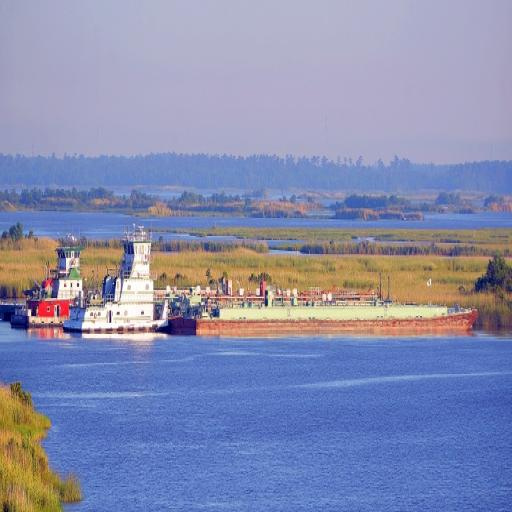tugboat: (62, 231, 172, 349), (10, 221, 99, 348)
